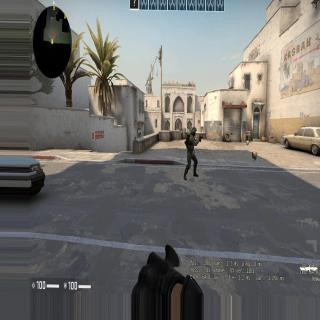CT-Body: (182, 122, 200, 176)
CT-Head: (190, 124, 198, 135)
